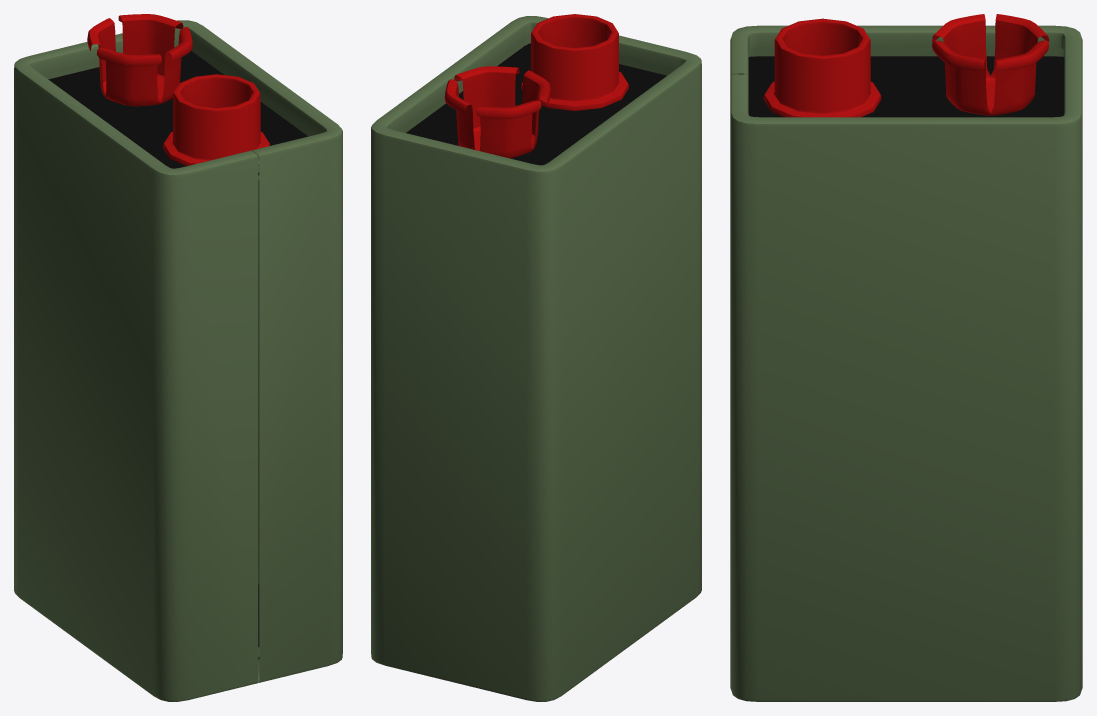
File: battery006.fbx
3 views of the same model, side by side, from view 1: azimuth 30°, elevation 25°; view 2: azimuth 150°, elevation 25°; view 3: azimuth 270°, elevation 25° (orthographic). The views are drawn at different scales.
Visible parts, largest first — view 1: battery006_LOD0; view 2: battery006_LOD0; view 3: battery006_LOD0.
Boxes of the visible parts, x1=… form: battery006_LOD0: x1=14, y1=14, x2=342, y2=701; battery006_LOD0: x1=371, y1=14, x2=701, y2=701; battery006_LOD0: x1=730, y1=14, x2=1082, y2=701.
Size of what is drawn, in the model's own units: 0.5816 by 1.68 by 0.8723.
